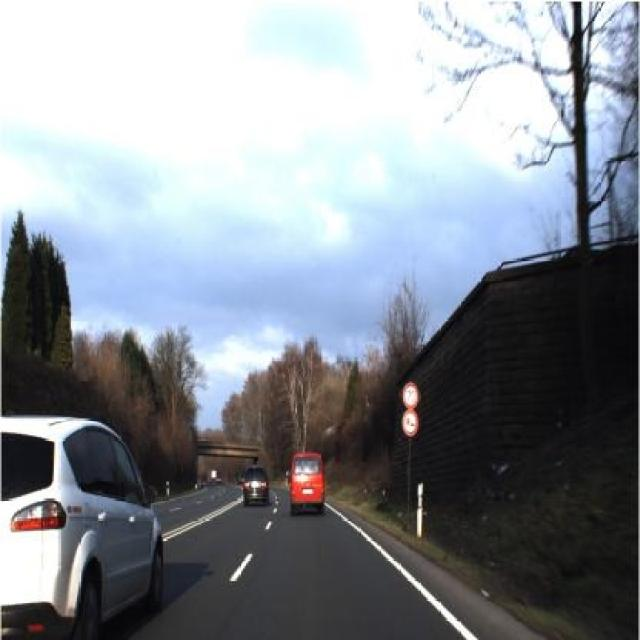forb_speed_over_70: (403, 380, 419, 409)
